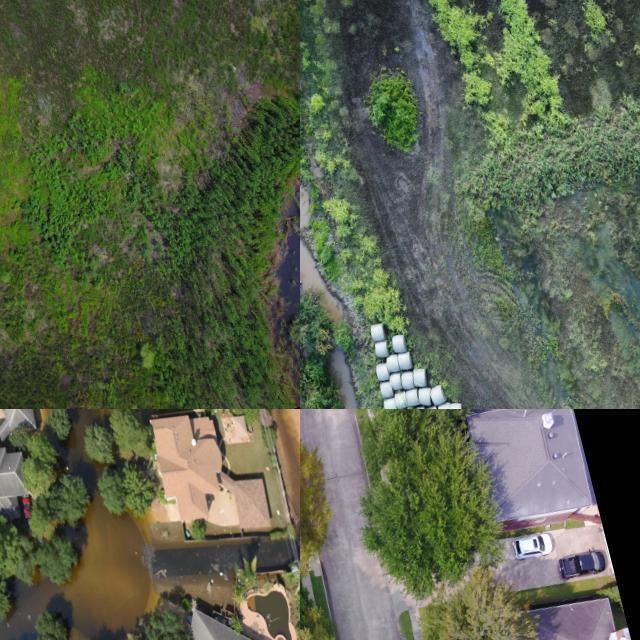fire: (0, 409, 163, 640), (330, 347, 356, 409)
